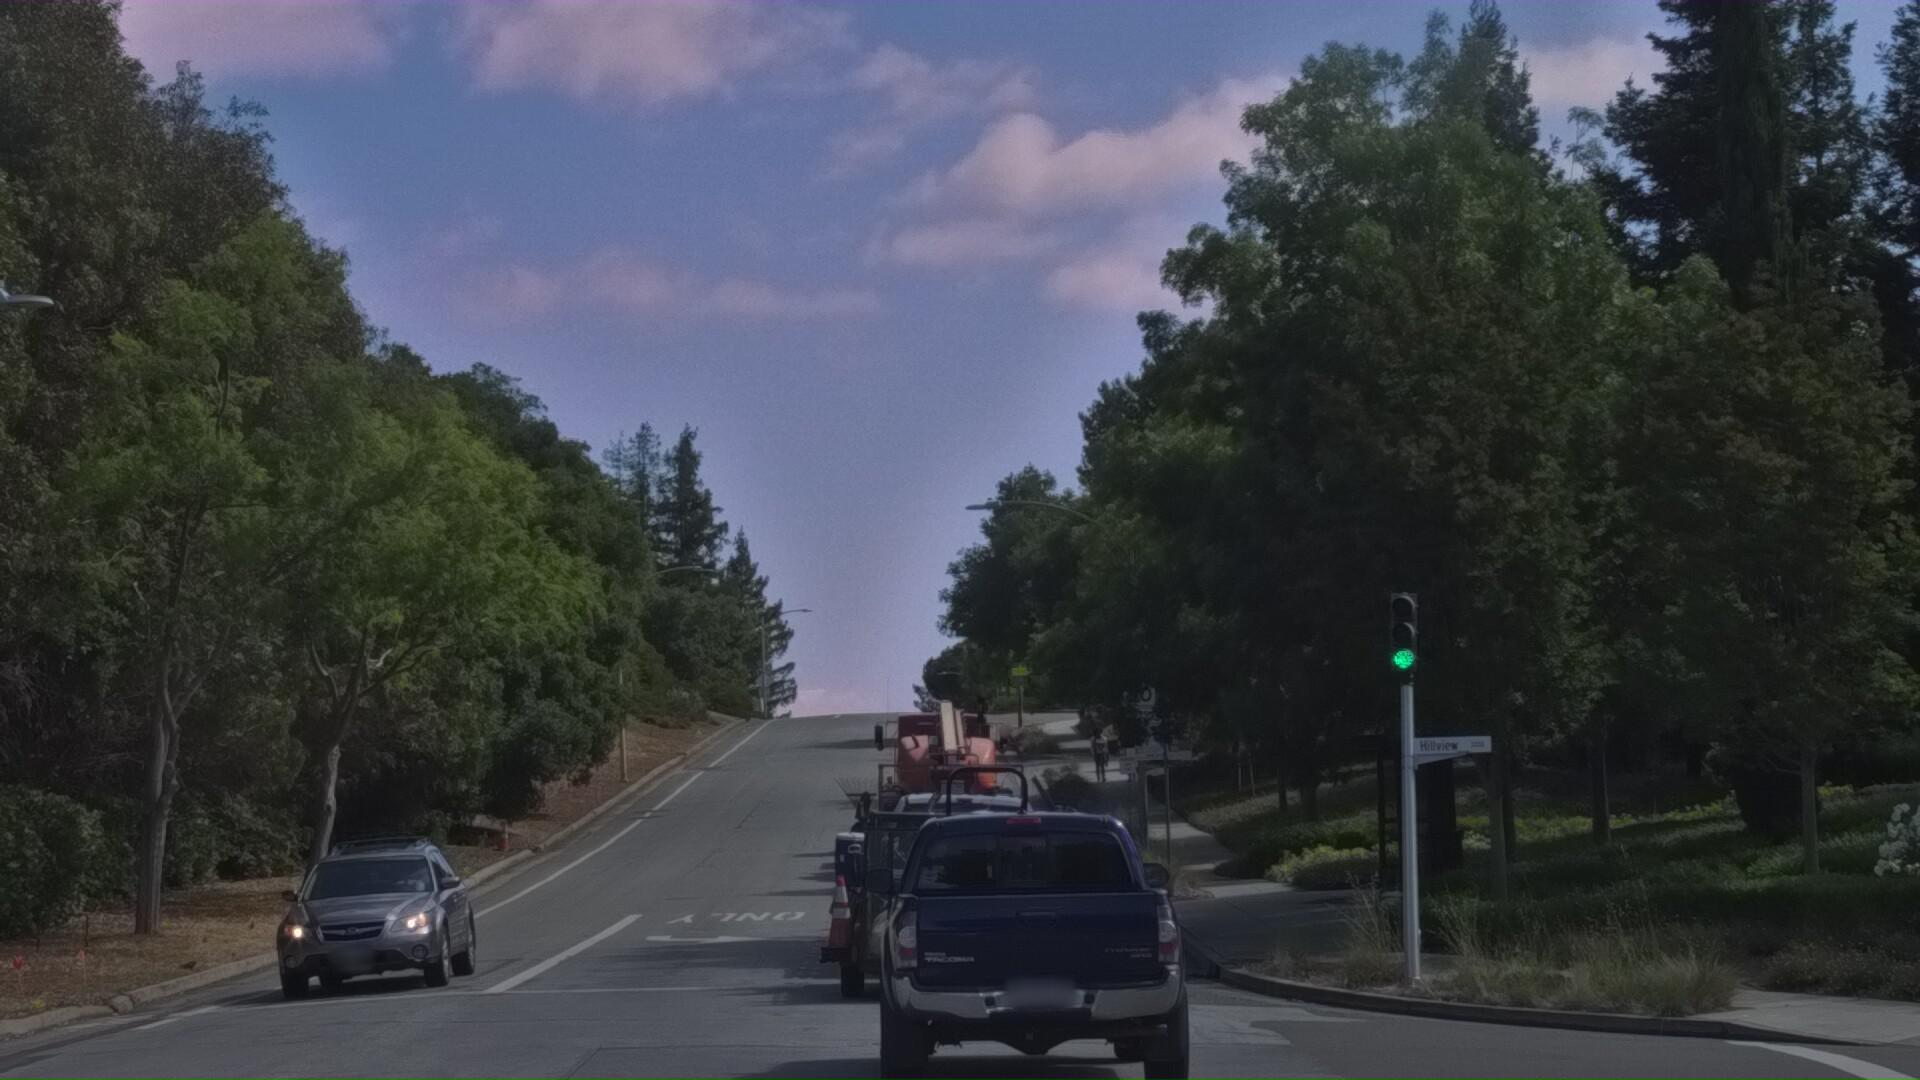car: (856, 847, 1207, 1080), (791, 799, 1071, 1080), (247, 899, 491, 1080)
other_vehicle: (891, 803, 1018, 936)
truck: (862, 733, 1046, 988)
